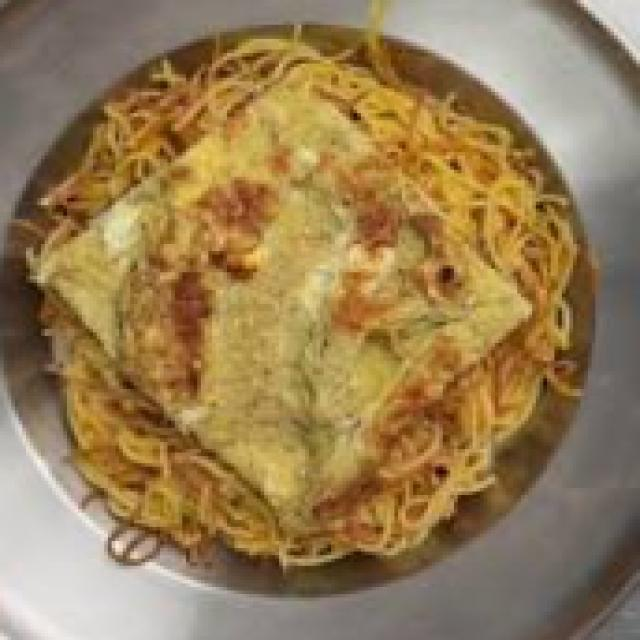Balaleet: (37, 54, 582, 550)
